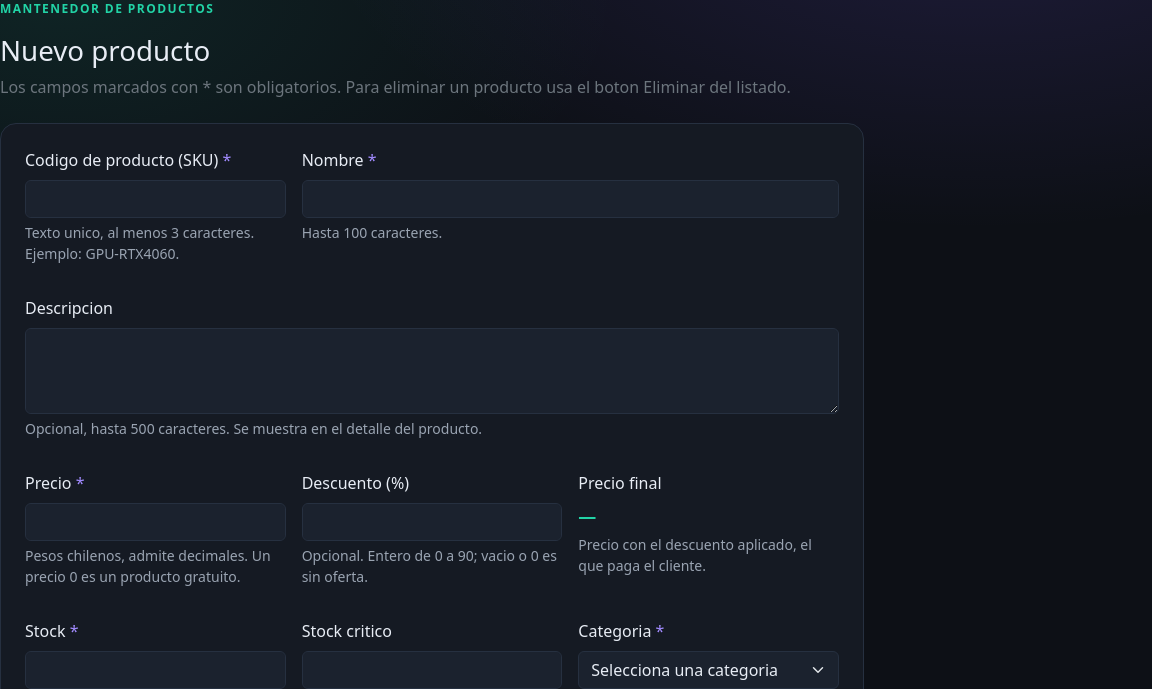
Test case: admin / FormularioProducto › crear › rechaza un codigo de menos de 3 caracteres (RF-10 CA2)
Type "AB" into the field labelled "Codigo de producto (SKU) *" at (155, 199), box [25,180,286,218]
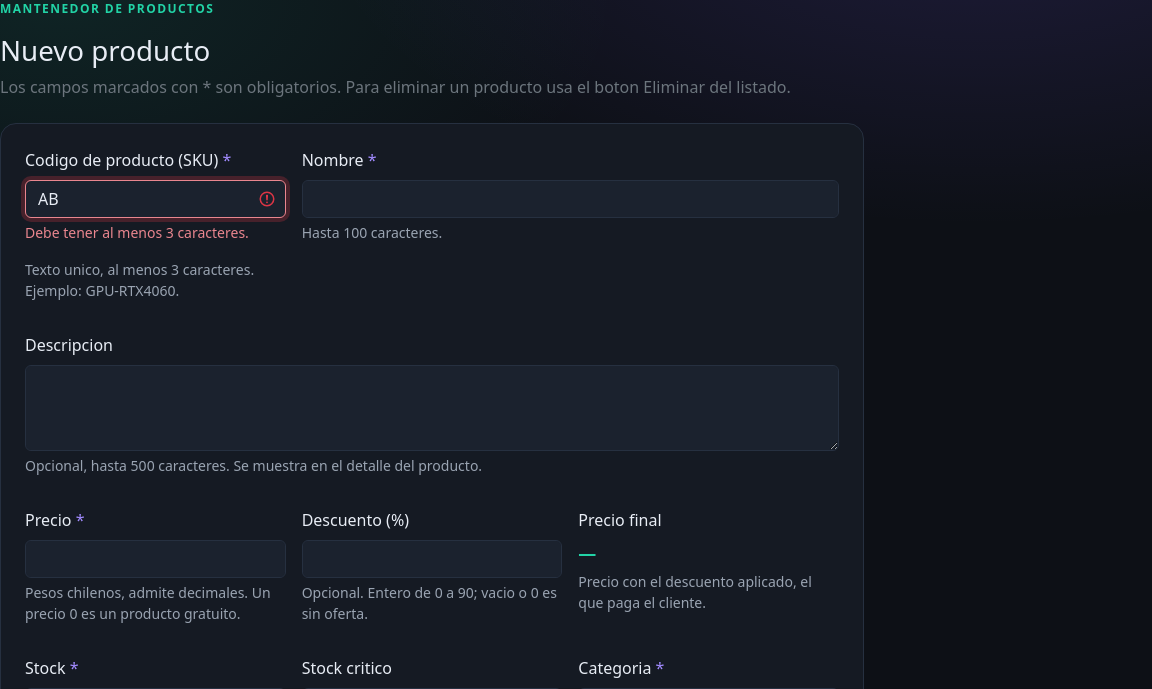
Now the text "Debe tener al menos 3 caracteres." is shown, box [25,222,286,243]
